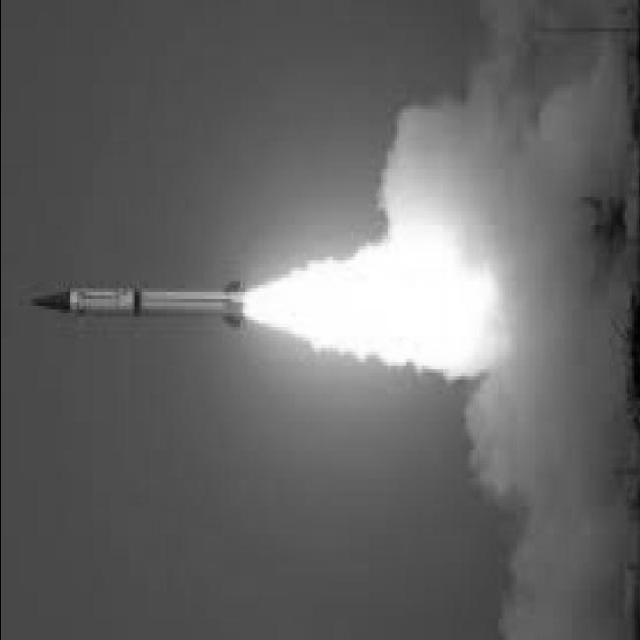Missile: (27, 277, 248, 330)
